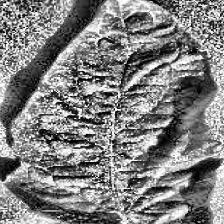Blossom Blight: (46, 106, 87, 163), (104, 113, 139, 170), (108, 0, 160, 32), (166, 138, 209, 170)
